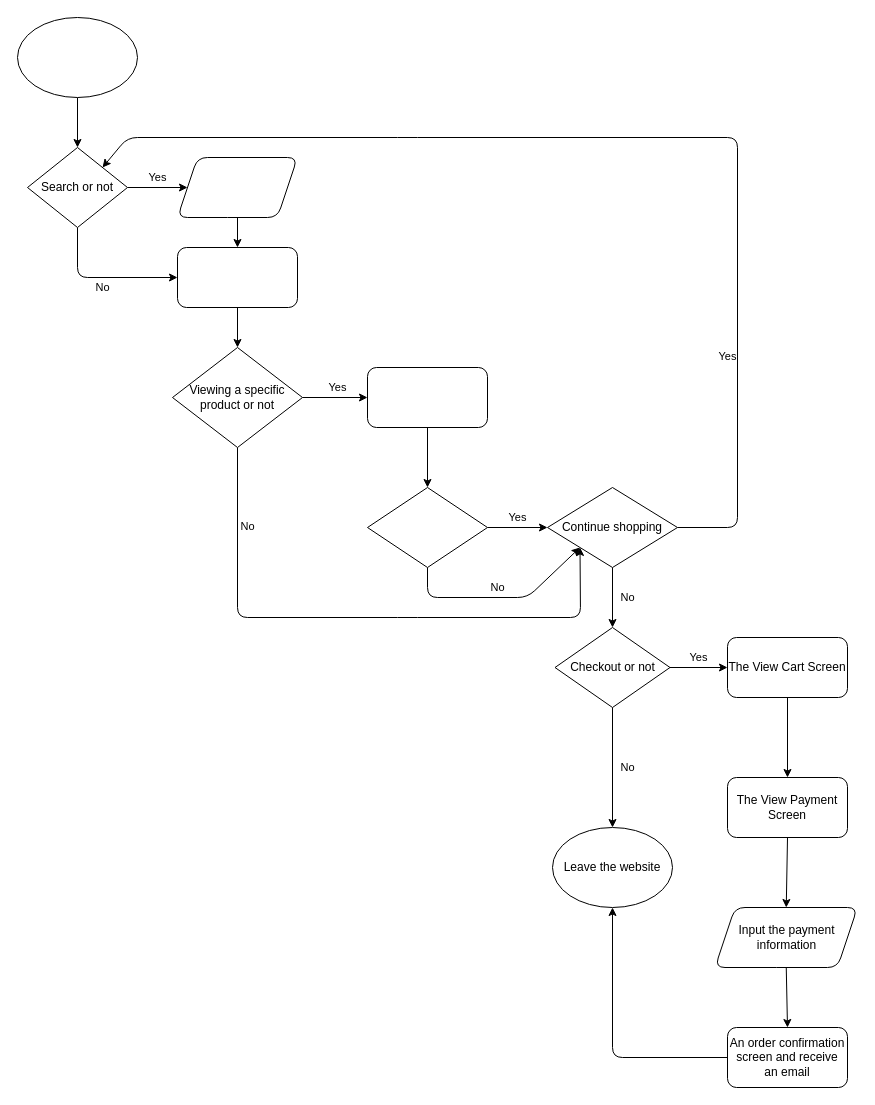
The diagram is 875 pixels wide and 1105 high, and some of its shapes have lost their labels. The shapes that lost their labels are listed below. From the top down, each one's centre as x and y in pixels, then its label:
At point 77,57: "Enter the website".
At point 237,187: "Input".
At point 237,277: "Looking over the product".
At point 427,397: "That product's webpage".
At point 427,527: "Add to cart or not".
